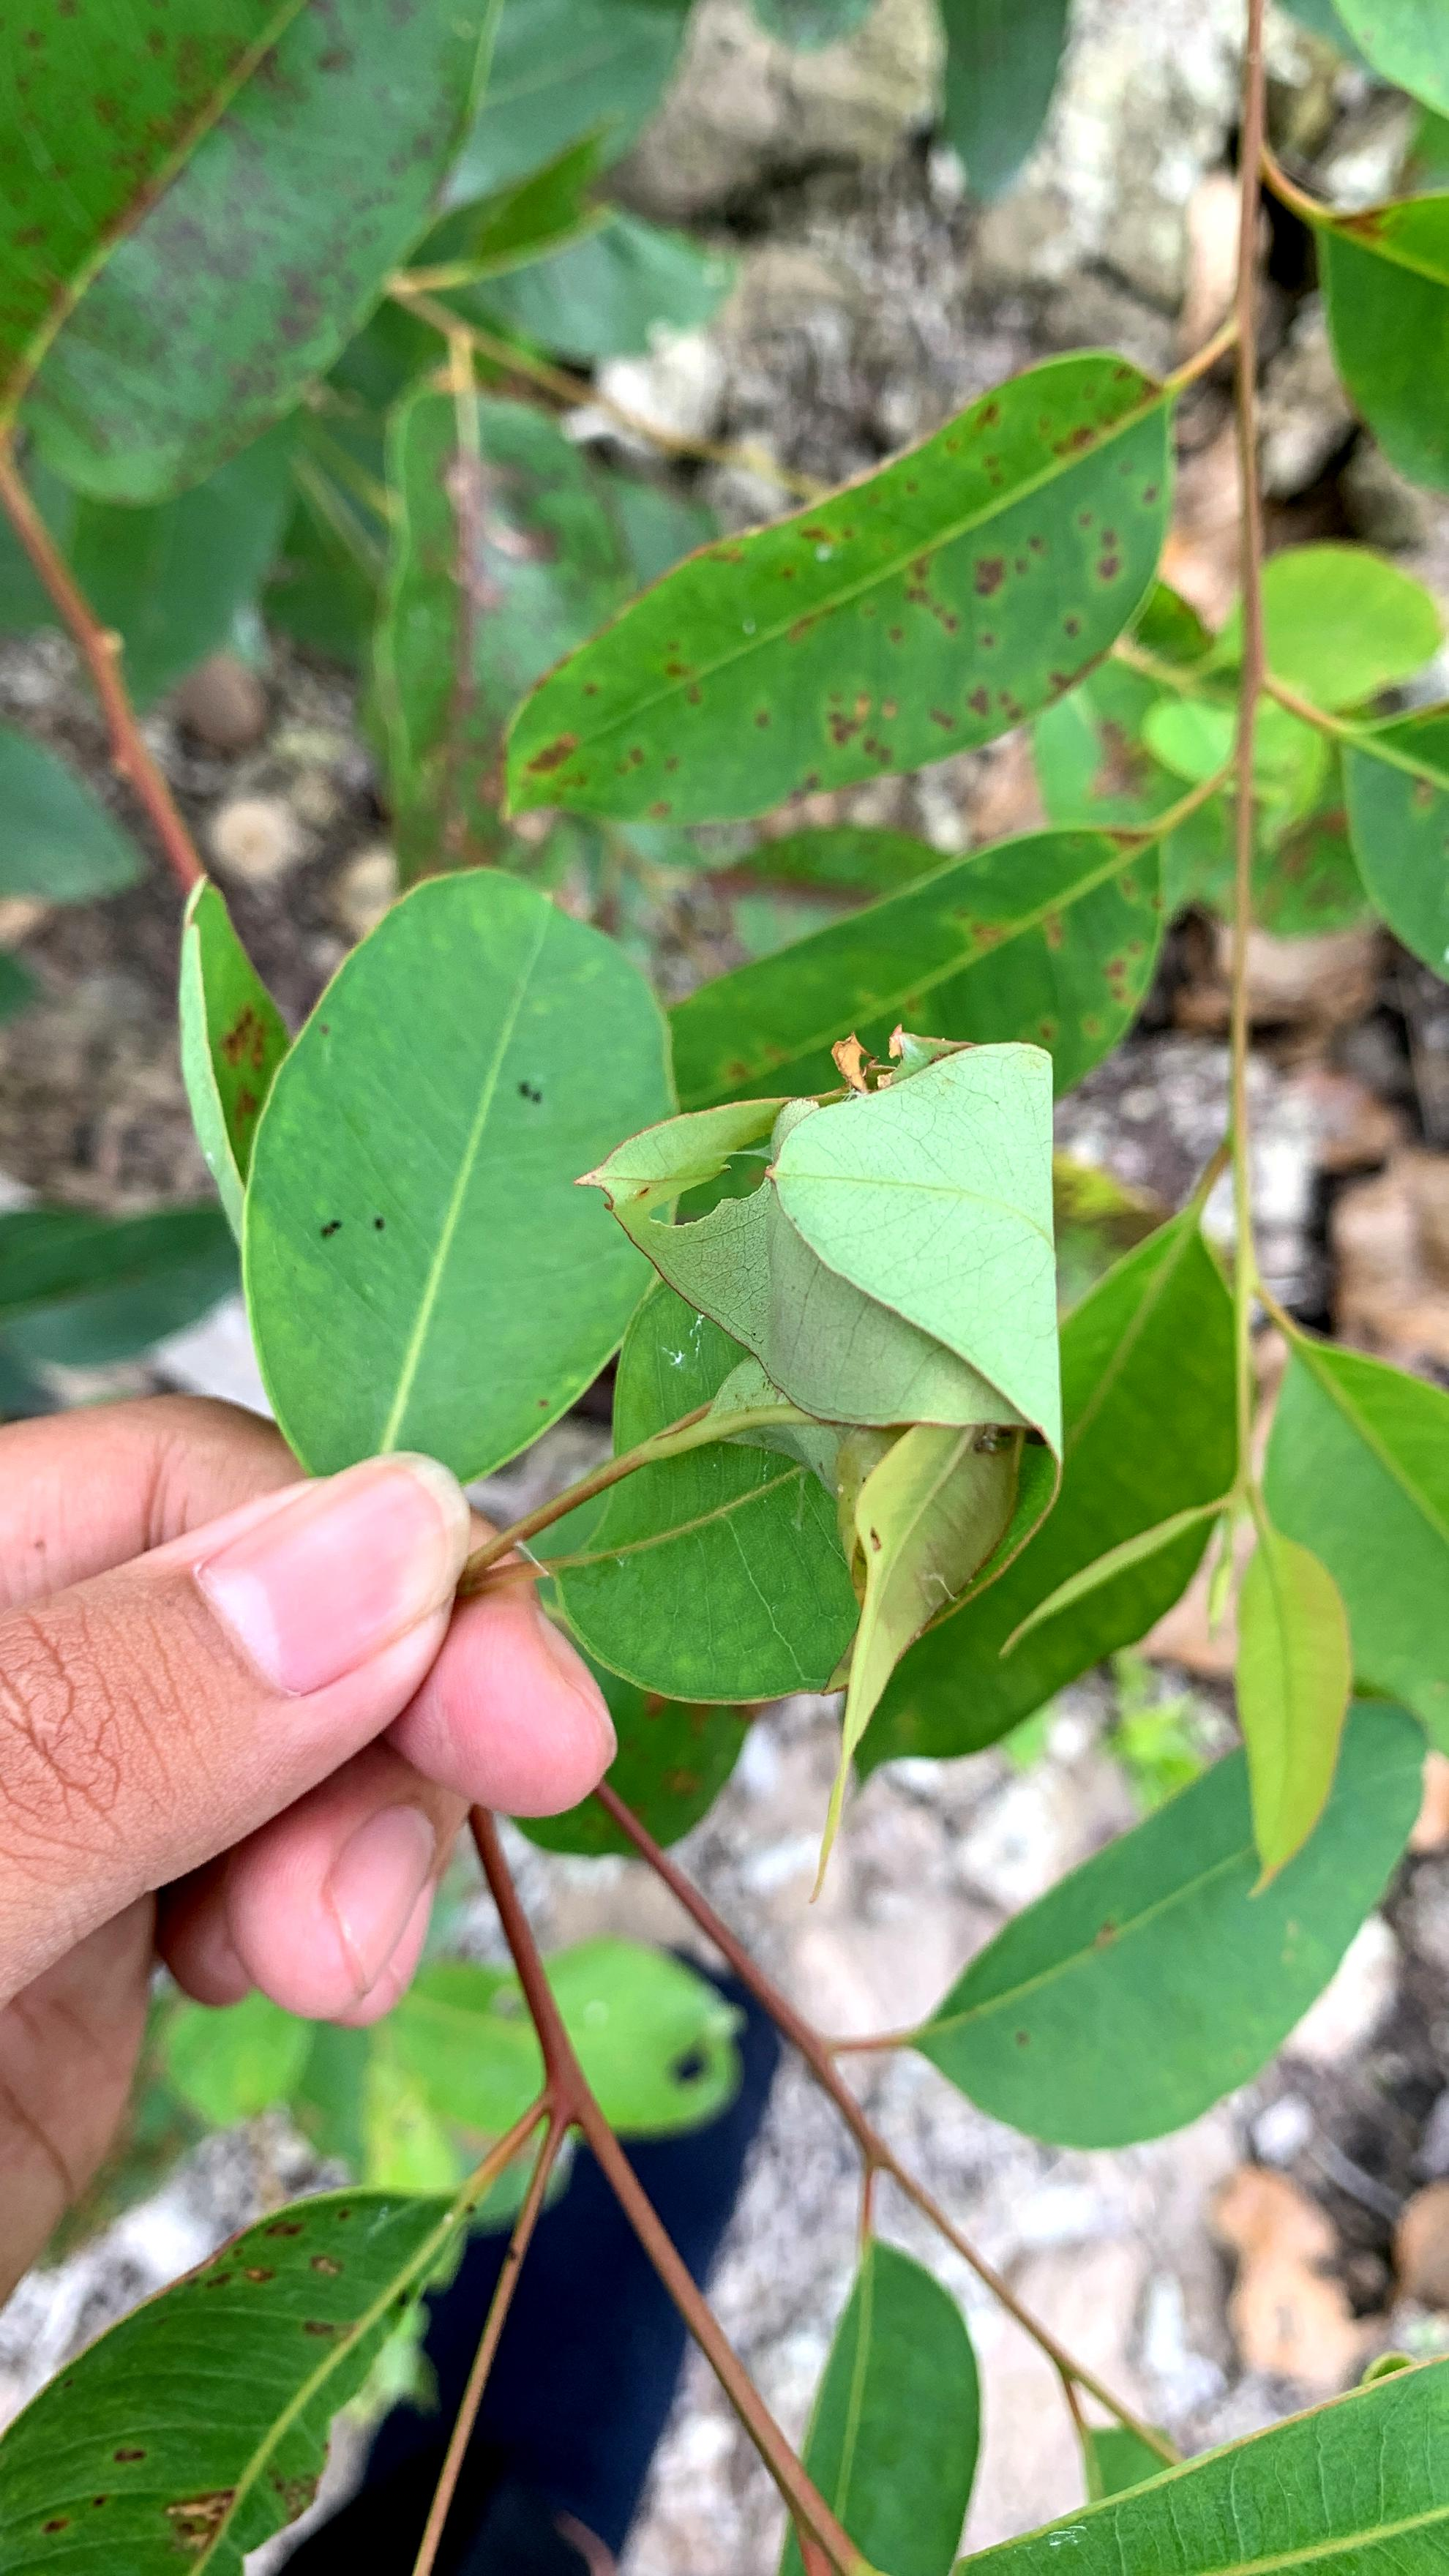Leaf Roller - Leaf: (617, 931, 1136, 1840)
